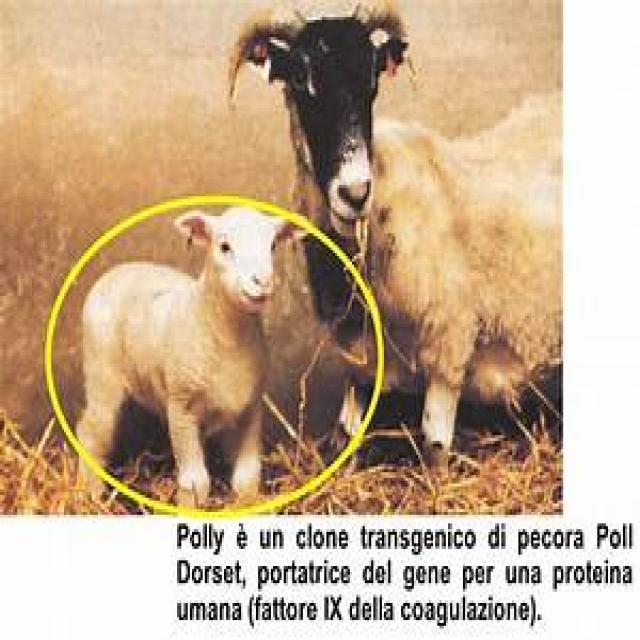sheep: (229, 0, 561, 466), (74, 213, 300, 501)
